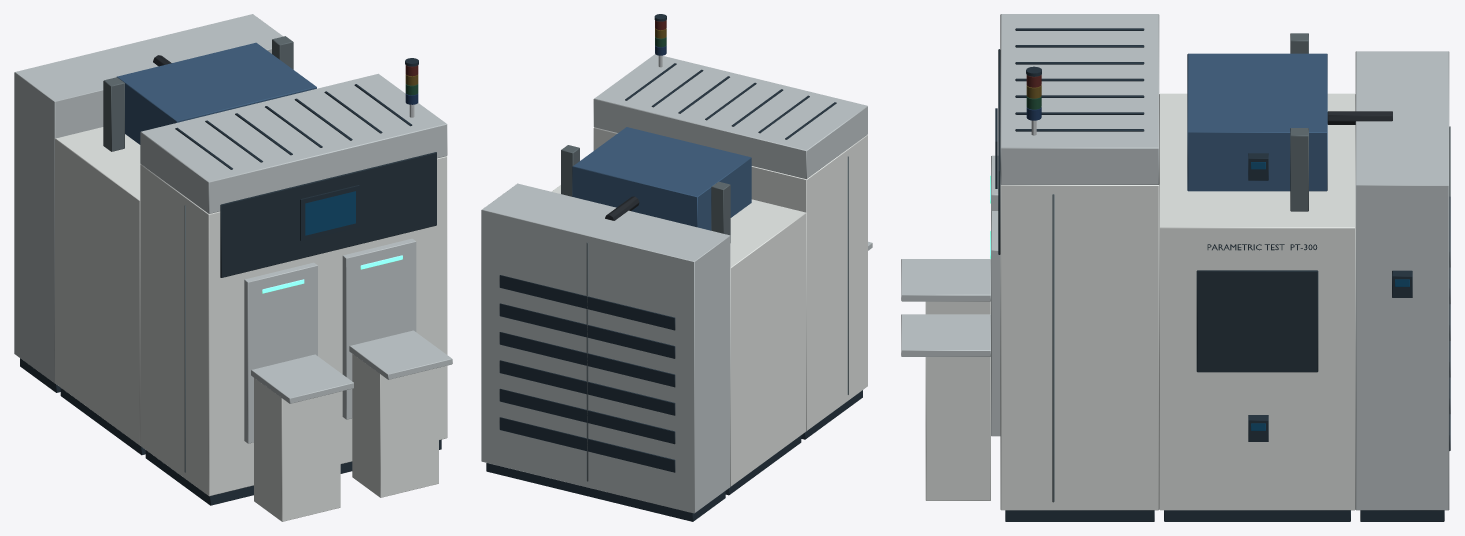
Rendered from fab1-tool-wat.glb.
The picture shows the model from 3 angles, left to right: view 1: azimuth 30°, elevation 25°; view 2: azimuth 150°, elevation 25°; view 3: azimuth 270°, elevation 25°; orthographic projection. The views are drawn at different scales.
Parts seen in each view (by area): view 1: TOOL_WAT_EFEM, TOOL_WAT_LoadPorts, TOOL_WAT_ModuleBody, TOOL_WAT_Rack, TOOL_WAT_TestHead, TOOL_HMI_Screen, TOOL_WAT_Operator, TOOL_WAT_SignalTower; view 2: TOOL_WAT_Rack, TOOL_WAT_EFEM, TOOL_WAT_ModuleBody, TOOL_WAT_TestHead, TOOL_WAT_SignalTower; view 3: TOOL_WAT_EFEM, TOOL_WAT_ModuleBody, TOOL_WAT_Rack, TOOL_WAT_LoadPorts, TOOL_WAT_TestHead, TOOL_WAT_SignalTower.
Part boxes in pixels (x1=…): TOOL_WAT_EFEM: x1=140, y1=73, x2=447, y2=505; TOOL_WAT_LoadPorts: x1=244, y1=238, x2=452, y2=521; TOOL_WAT_ModuleBody: x1=55, y1=127, x2=145, y2=455; TOOL_WAT_Rack: x1=14, y1=14, x2=283, y2=392; TOOL_WAT_TestHead: x1=103, y1=36, x2=316, y2=151; TOOL_HMI_Screen: x1=305, y1=191, x2=355, y2=235; TOOL_WAT_Operator: x1=300, y1=185, x2=359, y2=240; TOOL_WAT_SignalTower: x1=405, y1=58, x2=418, y2=117; TOOL_WAT_Rack: x1=481, y1=183, x2=730, y2=521; TOOL_WAT_EFEM: x1=593, y1=54, x2=867, y2=439; TOOL_WAT_ModuleBody: x1=551, y1=185, x2=806, y2=495; TOOL_WAT_TestHead: x1=561, y1=127, x2=751, y2=242; TOOL_WAT_SignalTower: x1=654, y1=14, x2=666, y2=67; TOOL_WAT_EFEM: x1=998, y1=14, x2=1159, y2=521; TOOL_WAT_ModuleBody: x1=1159, y1=93, x2=1355, y2=521; TOOL_WAT_Rack: x1=1355, y1=51, x2=1450, y2=521; TOOL_WAT_LoadPorts: x1=901, y1=155, x2=1000, y2=500; TOOL_WAT_TestHead: x1=1187, y1=33, x2=1392, y2=211; TOOL_WAT_SignalTower: x1=1026, y1=66, x2=1041, y2=135.
Size of the model in its own units: 1.82 by 2.61 by 2.94.
3 materials, 1 textured.
